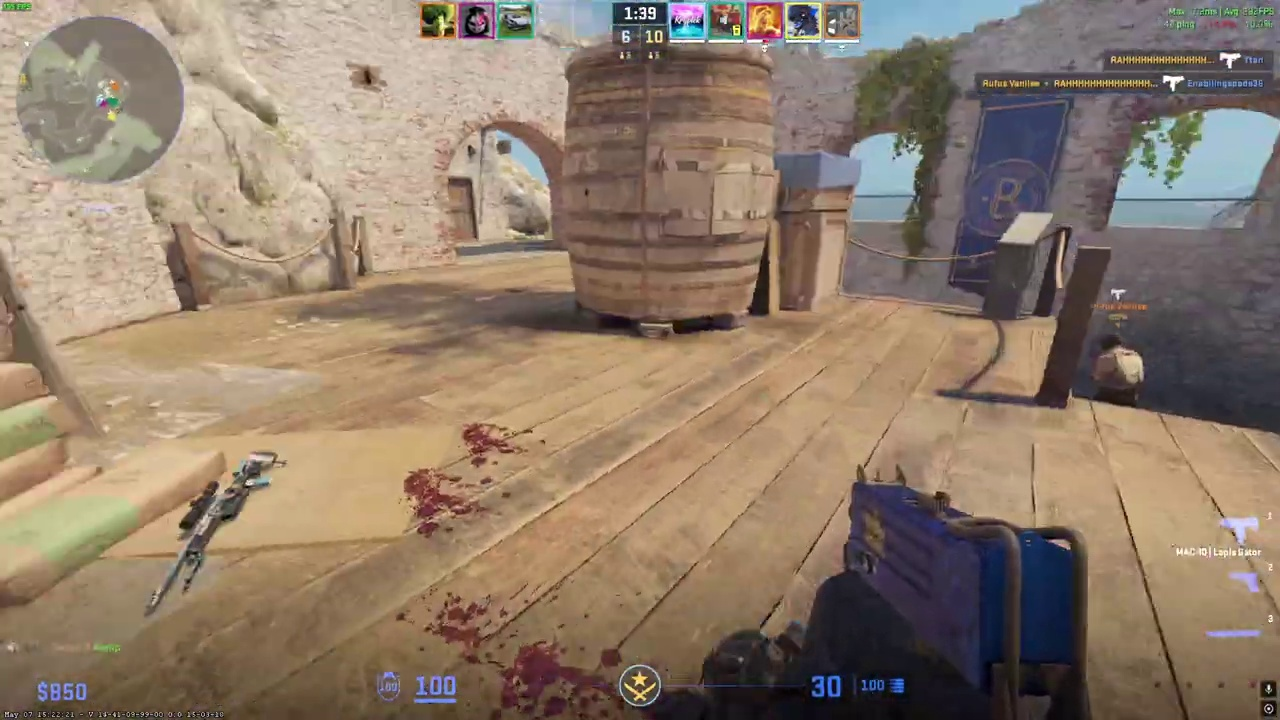Terrorist: (1090, 333, 1144, 408)
